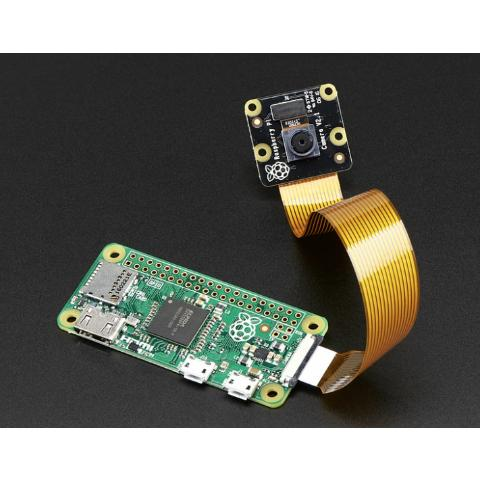Raspberry-Pi-Zero: (57, 240, 329, 410)
